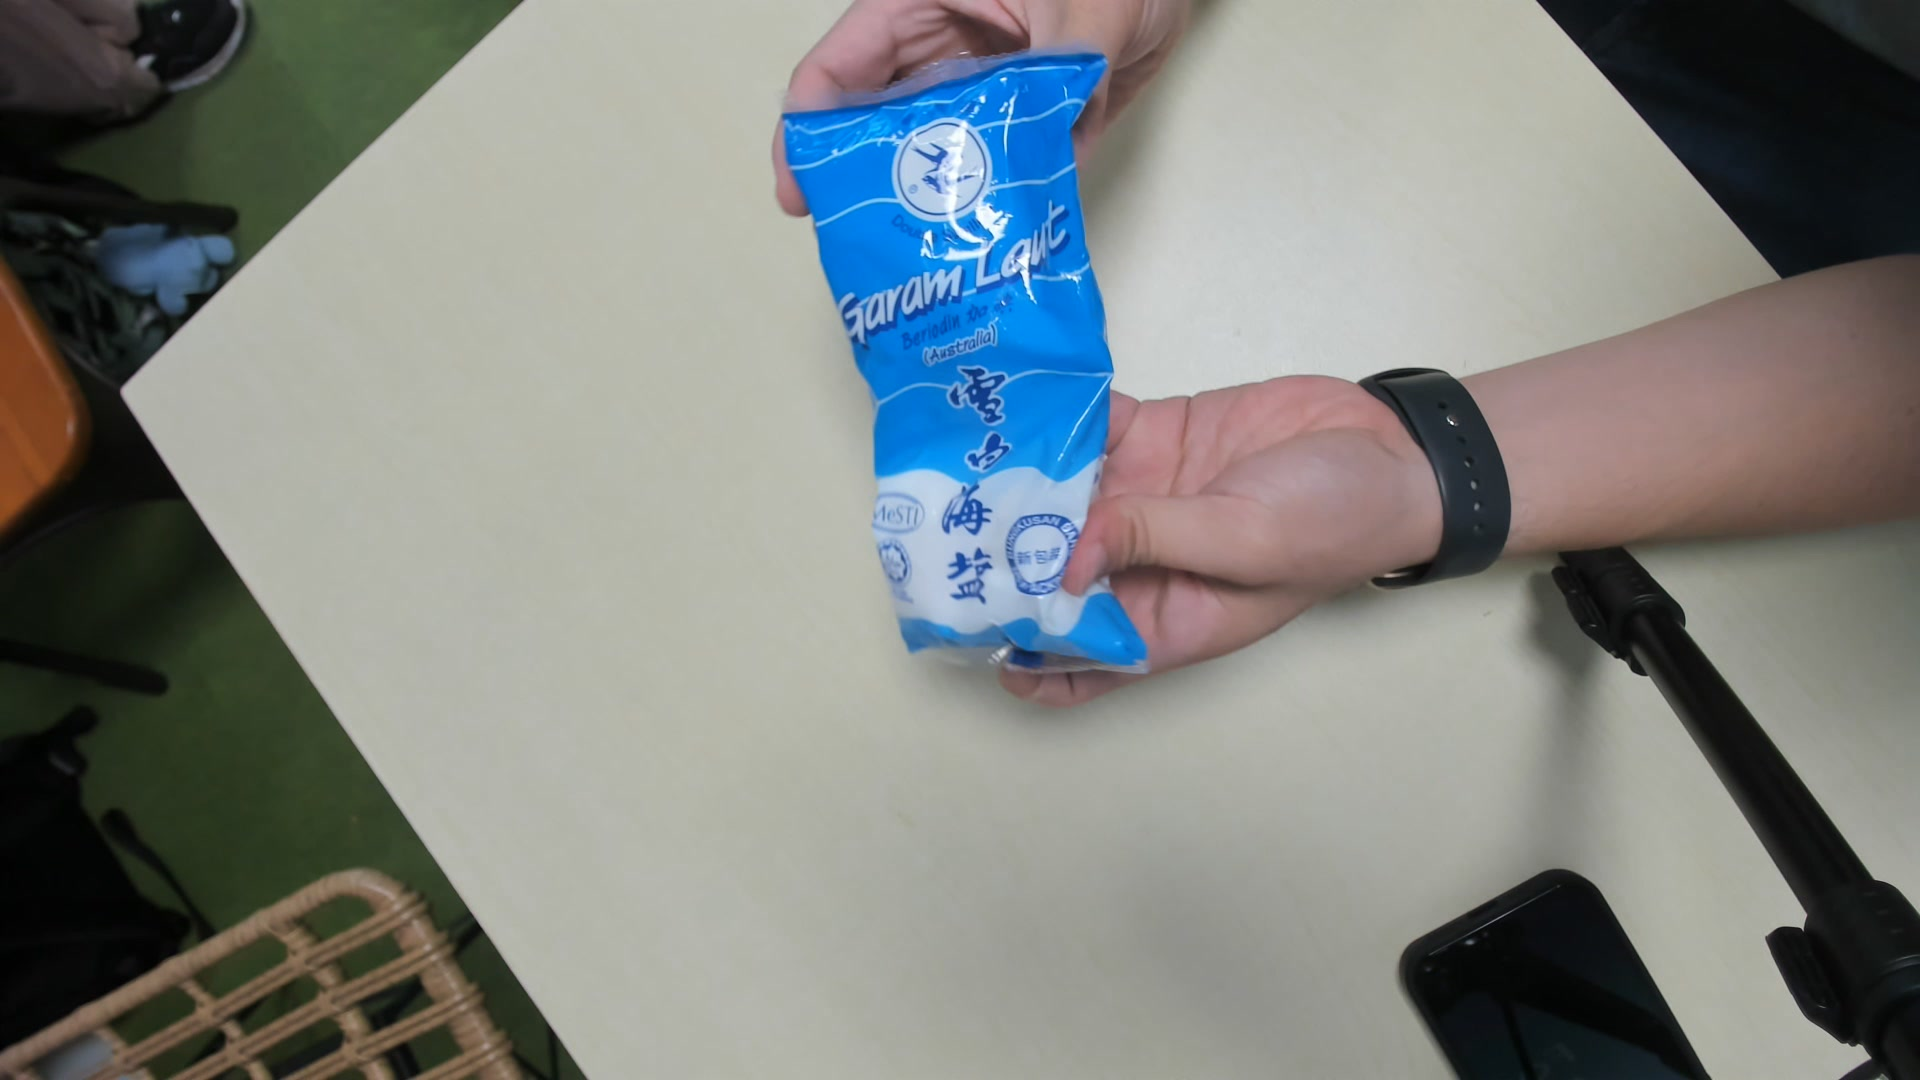Salt_300-399g_NonHalal_NonHealthy: (793, 55, 1164, 680)
